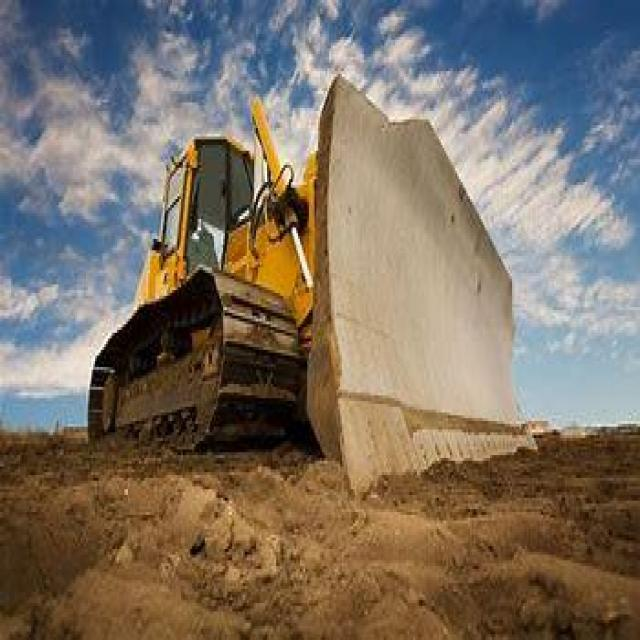Bulldozer: (79, 57, 556, 523)
